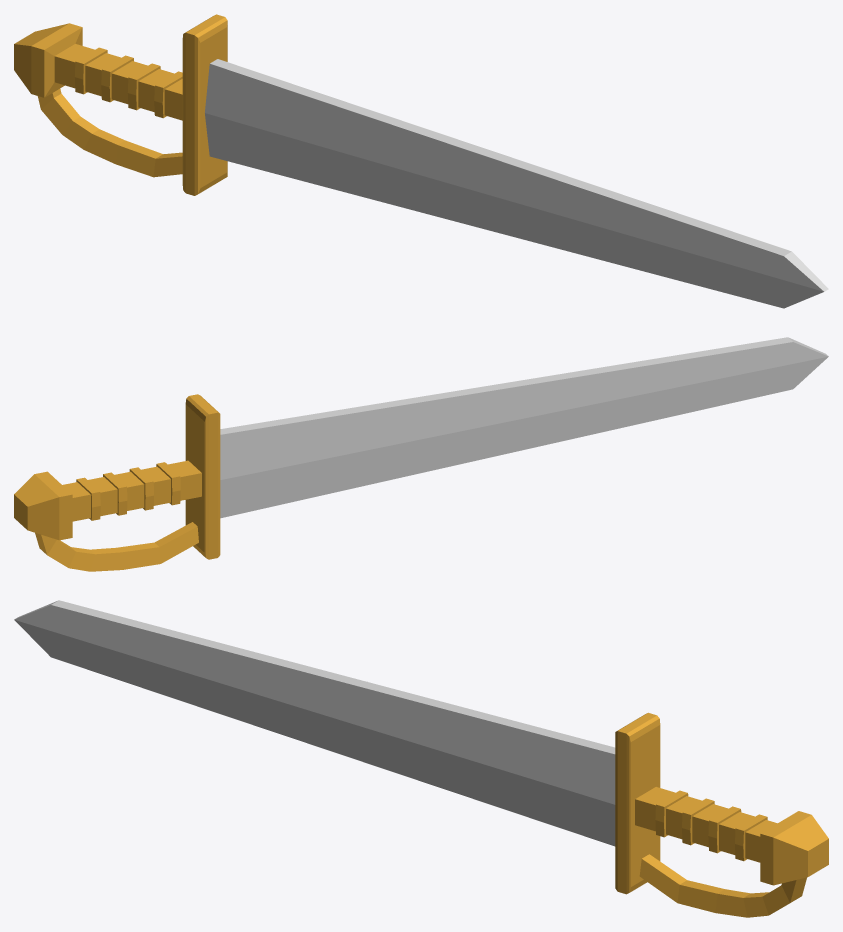
Rendered from EspadaArcangel.fbx.
3 views of the same model, one above another, from view 1: azimuth 90°, elevation 25°; view 2: azimuth 150°, elevation 25°; view 3: azimuth 270°, elevation 25° (orthographic). The views are drawn at different scales.
Parts seen in each view (by area): view 1: espada; view 2: espada; view 3: espada.
Boxes of the visible parts, <box> form: espada: <box>14,14,828,308</box>; espada: <box>14,337,828,571</box>; espada: <box>14,600,828,917</box>.
Bounding box in the file's own units: 202 × 62.11 × 282.
